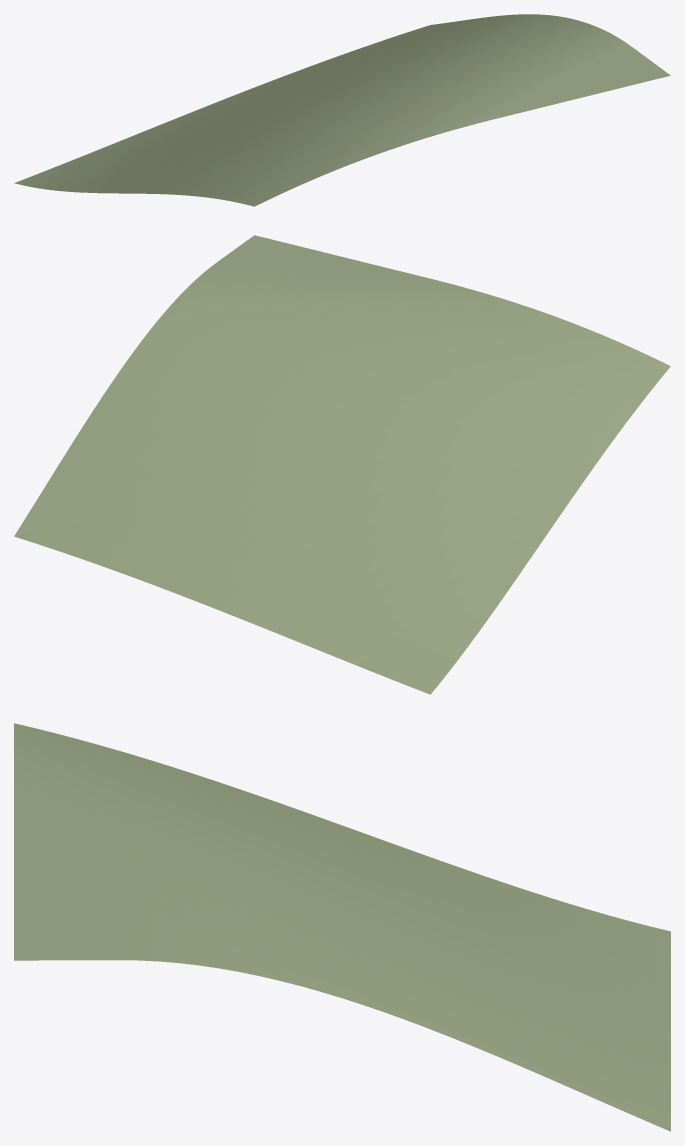
Rendered from desert-25-18.glb.
3 renders of one model, top to bottom at view 1: azimuth 30°, elevation 25°; view 2: azimuth 150°, elevation 25°; view 3: azimuth 270°, elevation 25°, orthographic. The views are drawn at different scales.
Visible parts, largest first — view 1: desert-25-18; view 2: desert-25-18; view 3: desert-25-18.
Part boxes in pixels (x1,y1,x2,y2): desert-25-18: (14,14,670,206); desert-25-18: (14,235,670,694); desert-25-18: (14,723,670,1131).
Size of the model in its own units: 512 by 214 by 512.
